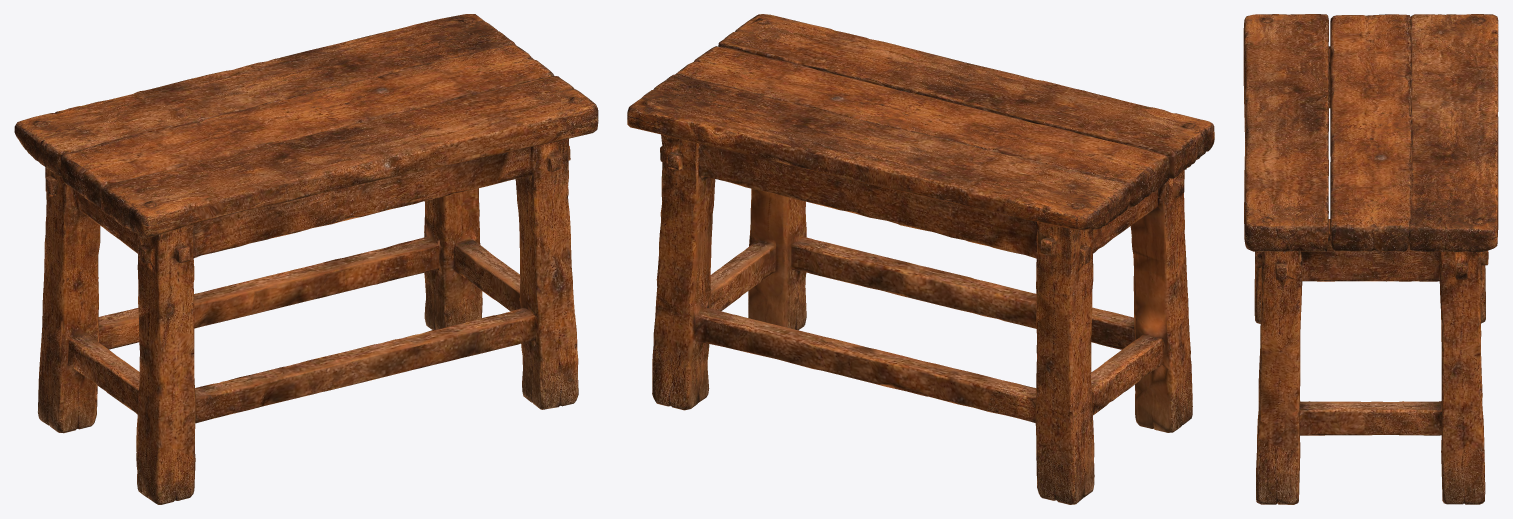
File: rustic-wooden-workben.glb
3 views of the same model, side by side, from view 1: azimuth 30°, elevation 25°; view 2: azimuth 150°, elevation 25°; view 3: azimuth 270°, elevation 25° (orthographic). The views are drawn at different scales.
Bounding box in the file's own units: 1.9 × 1.18 × 0.9462.
Materials: 1 (1 with a texture image).
